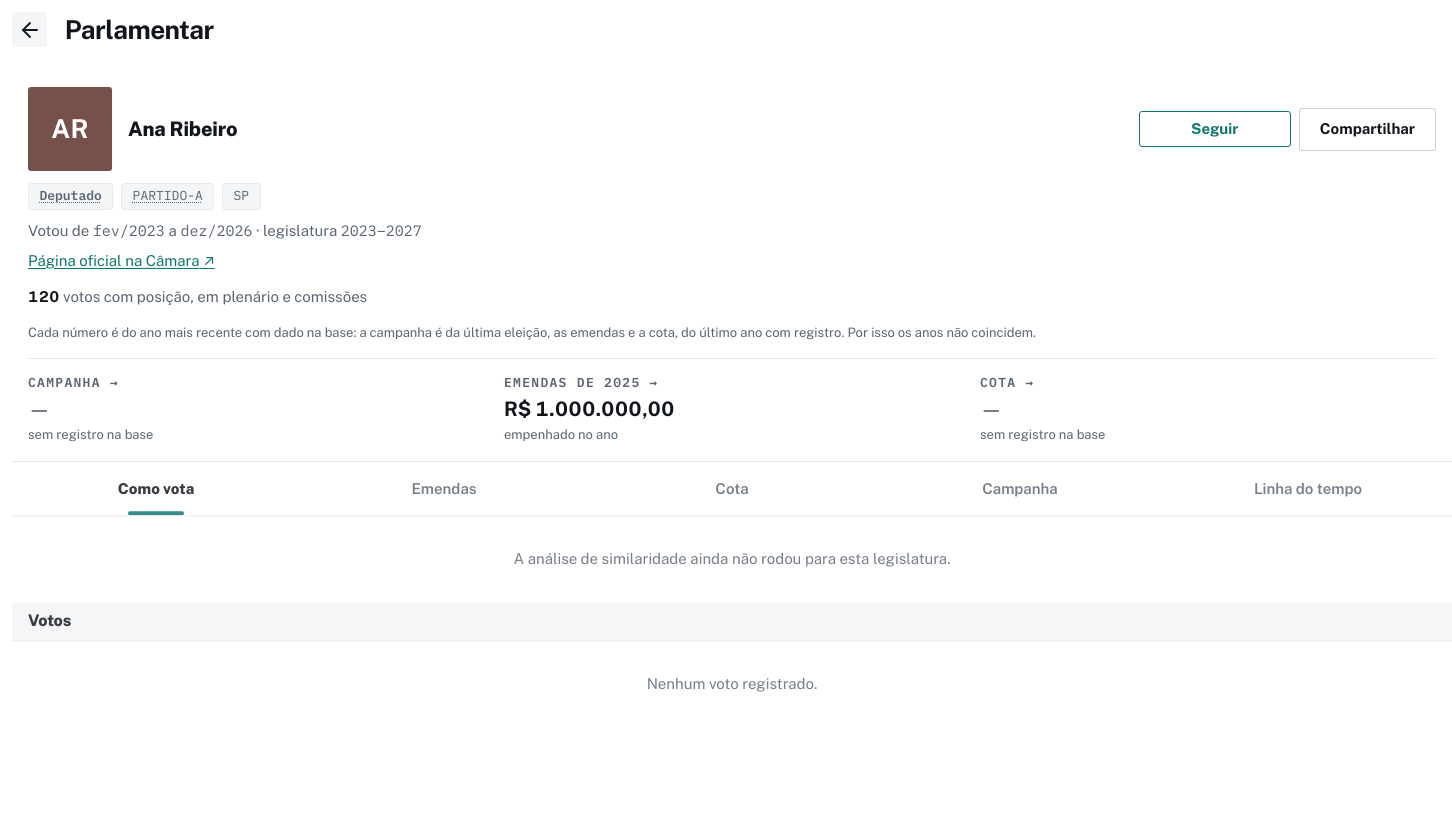
Test: contas — campanha › DECISÃO: estado vazio é honesto
Click the link "Campanha" at (1020, 489), box [982,480,1058,497]
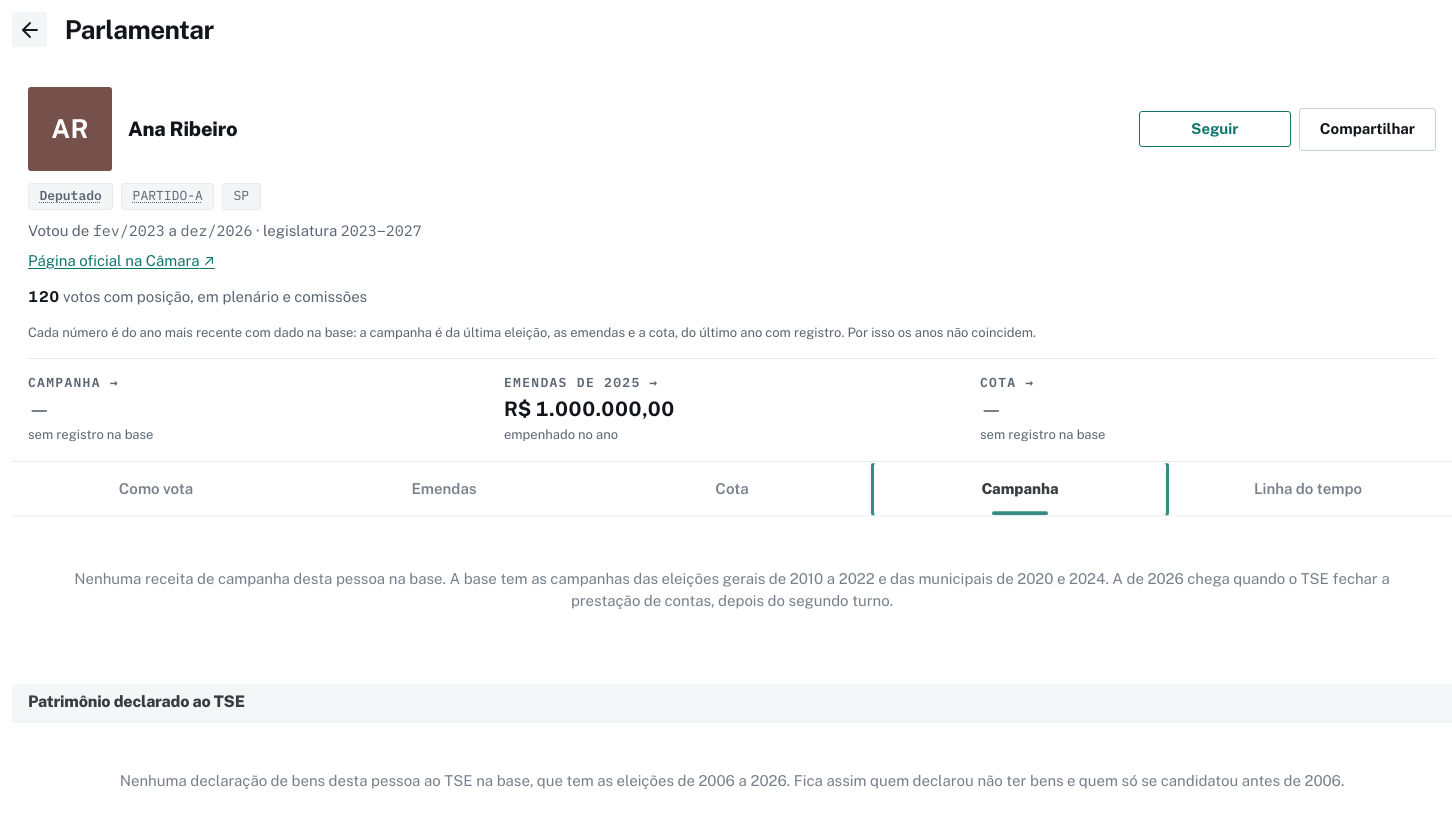
expect the text "Nenhuma receita de campanha desta pessoa" is shown: met, box [74,570,1390,609]
